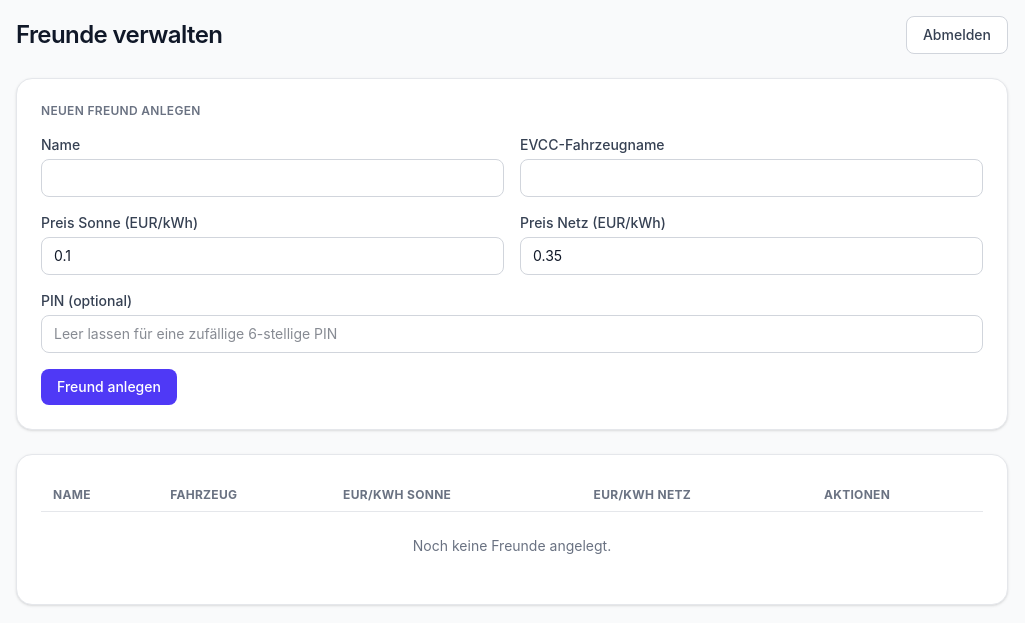
Scenario: AdminPage › logs out and shows the login form again
The image size is (1025, 623).
Click the button "Abmelden" at (957, 35), box [906,16,1008,54]
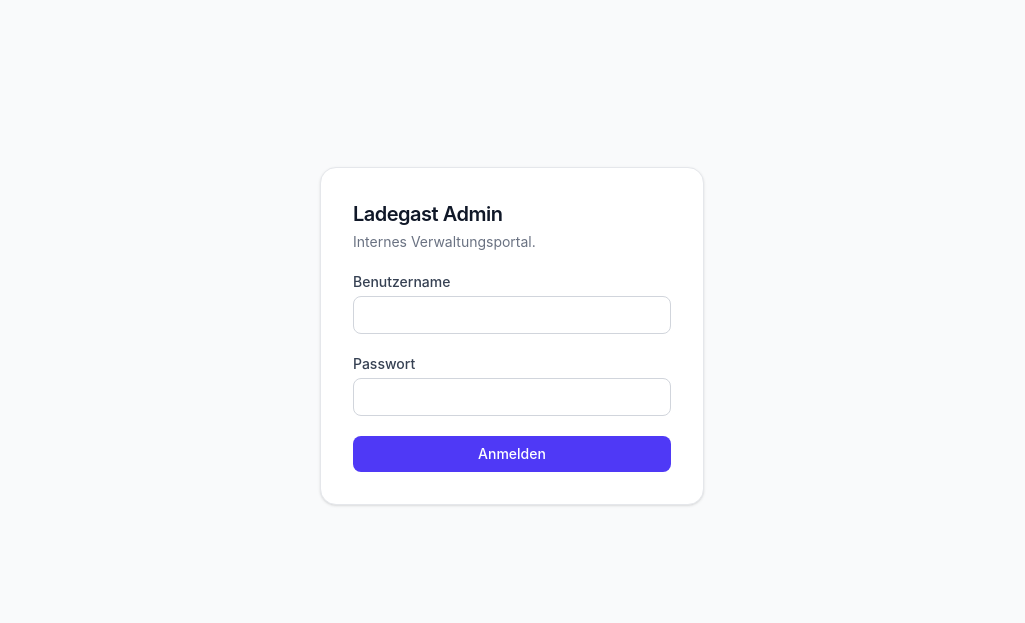
Now the field with id "username" is shown, box [353,296,671,334]
